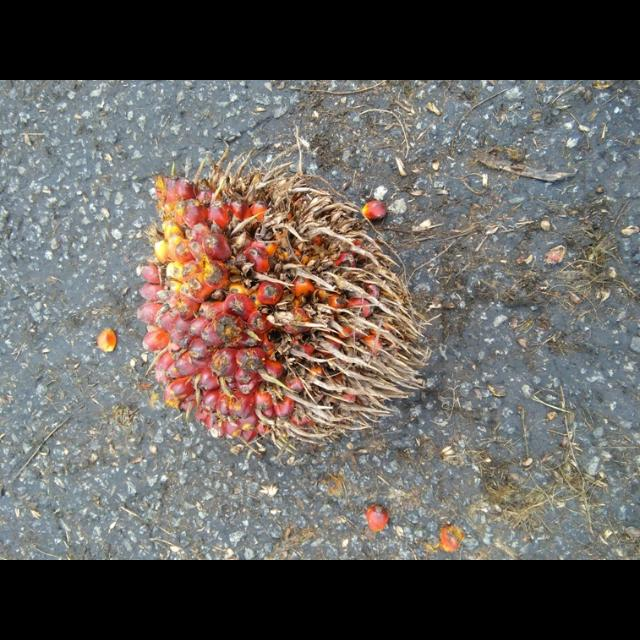Ripe: (131, 170, 421, 450)
